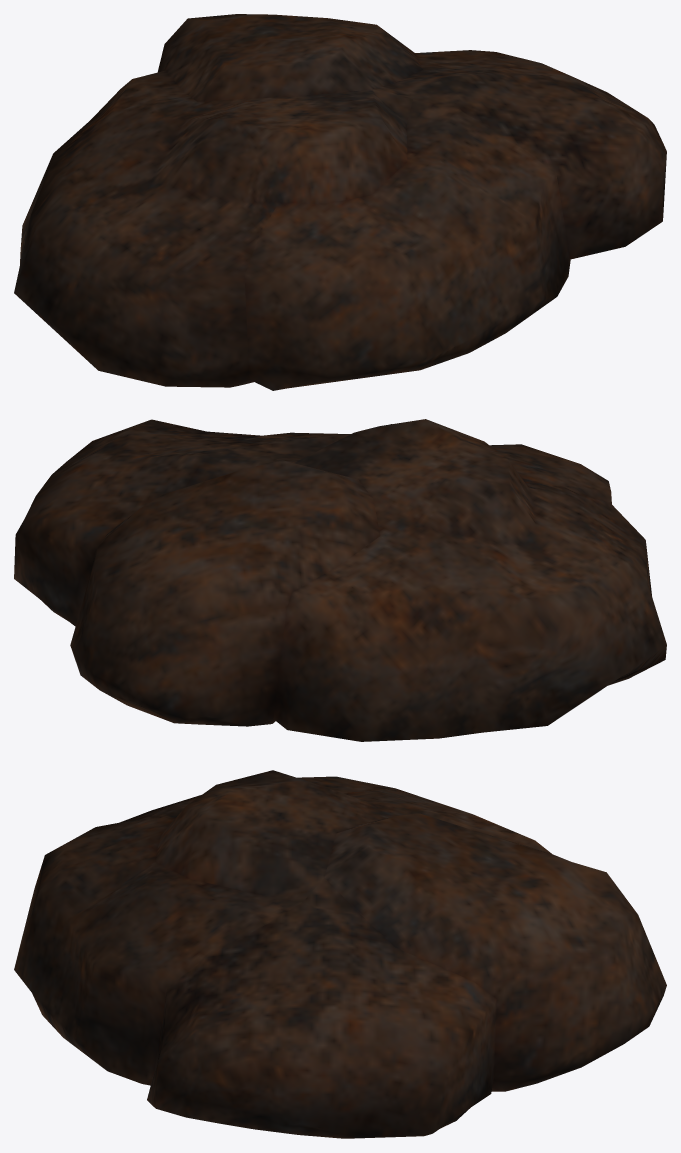
The model's file is sb_obj_nature006_Stone05f.fbx.
The picture shows the model from 3 angles, top to bottom: view 1: azimuth 30°, elevation 25°; view 2: azimuth 150°, elevation 25°; view 3: azimuth 270°, elevation 25°; orthographic projection. The views are drawn at different scales.
Visible parts, largest first — view 1: sb_obj_nature006_Stone05f; view 2: sb_obj_nature006_Stone05f; view 3: sb_obj_nature006_Stone05f.
Boxes of the visible parts, bbox=[...] form: sb_obj_nature006_Stone05f: bbox=[14, 14, 666, 390]; sb_obj_nature006_Stone05f: bbox=[14, 419, 666, 741]; sb_obj_nature006_Stone05f: bbox=[14, 770, 666, 1138].
Size of the model in its own units: 0.8885 by 0.293 by 0.8052.
